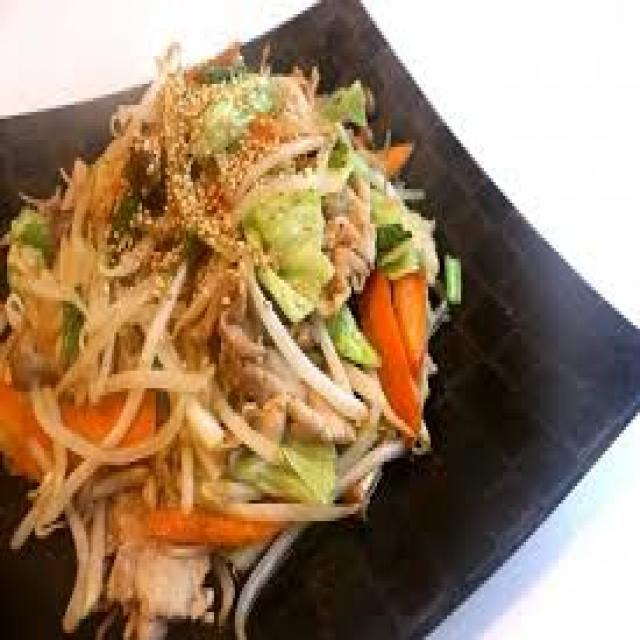organic waste: (0, 42, 461, 636)
